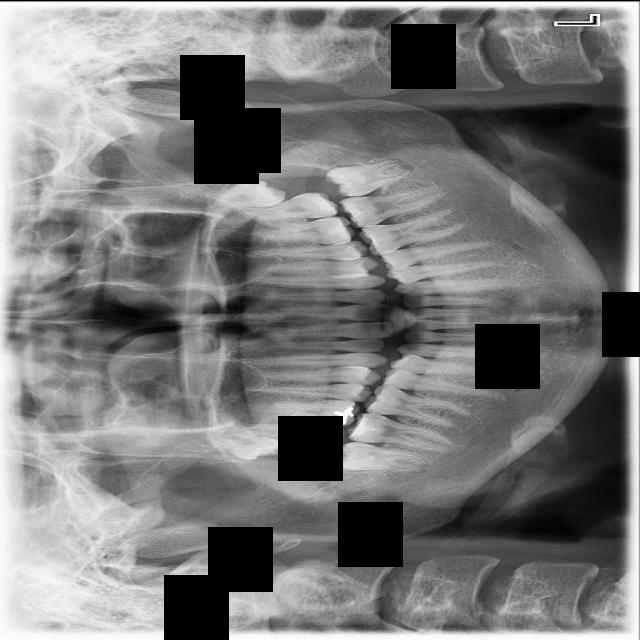3M ESPE Implant: (207, 421, 286, 469)
52: (320, 391, 363, 436), (346, 410, 401, 444), (302, 423, 346, 451)
73: (608, 8, 617, 16)
BioHorizons Implant: (218, 190, 340, 223)
BioLife Implant: (199, 173, 288, 217)
Biomet 3i Implant: (323, 156, 415, 200)
Blue Sky Bio Implant: (338, 184, 447, 230)
Caries: (233, 418, 346, 451)
Implant: (347, 409, 454, 453)
Keystone Dental Implant: (334, 440, 427, 472)
